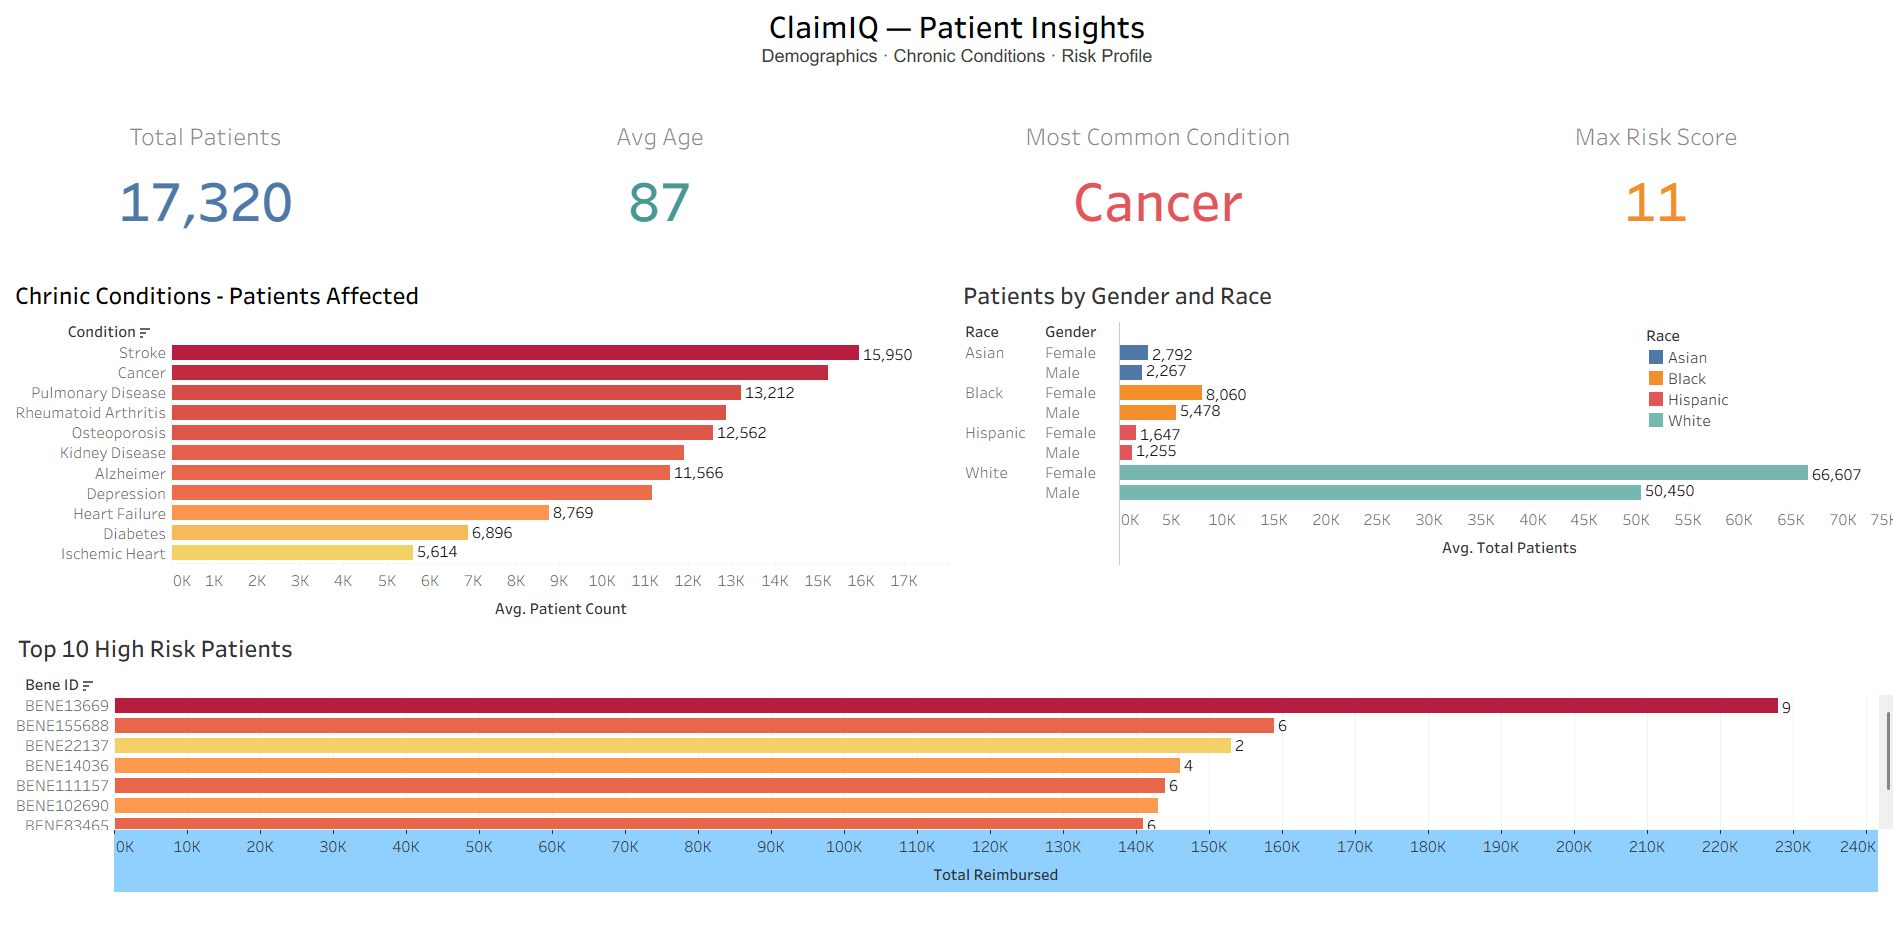

The page's visual inventory and layout, read from the dashboard file:
{"tool":"tableau","page":{"name":"Dashboard 3 - Patient Insights","canvas":[1000,1000],"units":"permille","ordinal":2},"visuals":[{"type":"title","box":[4.8,9.4,990.3,109.3]},{"type":"worksheet","title":"KPI - Total Patients D3","mark":"Automatic","box":[1.8,124.6,248,313.8]},{"type":"worksheet","title":"KPI - Avg Age","mark":"Automatic","box":[249.8,124.6,248,313.8]},{"type":"worksheet","title":"KPI - Top Condition","mark":"Text","box":[497.9,124.6,248,313.8]},{"type":"worksheet","title":"KPI - Max Risk Score","mark":"Automatic","box":[745.9,124.6,248,313.8]},{"type":"worksheet","title":"Demographics - Chronic","mark":"Automatic","rows":["Pivot Field Names"],"cols":["Pivot Field Values"],"box":[5.4,291.4,493.7,376]},{"type":"worksheet","title":"Demographics - Gender Race","mark":"Automatic","rows":["Race","Gender"],"cols":["Total_Patients"],"box":[499.1,291.4,494.9,376]},{"type":"legend","title":"Demographics - Gender Race","param":"[federated.0diwc21184dhc614eze8t05331kh].[none:Race:nk]","box":[858.8,347.8,84.5,124.6]},{"type":"worksheet","title":"Risk - Top Patients","mark":"Automatic","rows":["BeneID"],"cols":["Total_Reimbursed"],"box":[6.6,661.6,986.1,285.6]}]}

Visuals, with their boxes on the dashboard's canvas, which has no fixed pixel size, in thousandths of its width and height (x1, y1, x2, y2). These are canvas units, not pixel positions in the 1893x927 screenshot, which may show the page scaled, cropped or inside an application window:
title: bbox(5, 9, 995, 119)
"KPI - Total Patients D3" worksheet: bbox(2, 125, 250, 438)
"KPI - Avg Age" worksheet: bbox(250, 125, 498, 438)
"KPI - Top Condition" worksheet (Text marks): bbox(498, 125, 746, 438)
"KPI - Max Risk Score" worksheet: bbox(746, 125, 994, 438)
"Demographics - Chronic" worksheet: bbox(5, 291, 499, 667)
"Demographics - Gender Race" worksheet: bbox(499, 291, 994, 667)
"Demographics - Gender Race" legend: bbox(859, 348, 943, 472)
"Risk - Top Patients" worksheet: bbox(7, 662, 993, 947)
